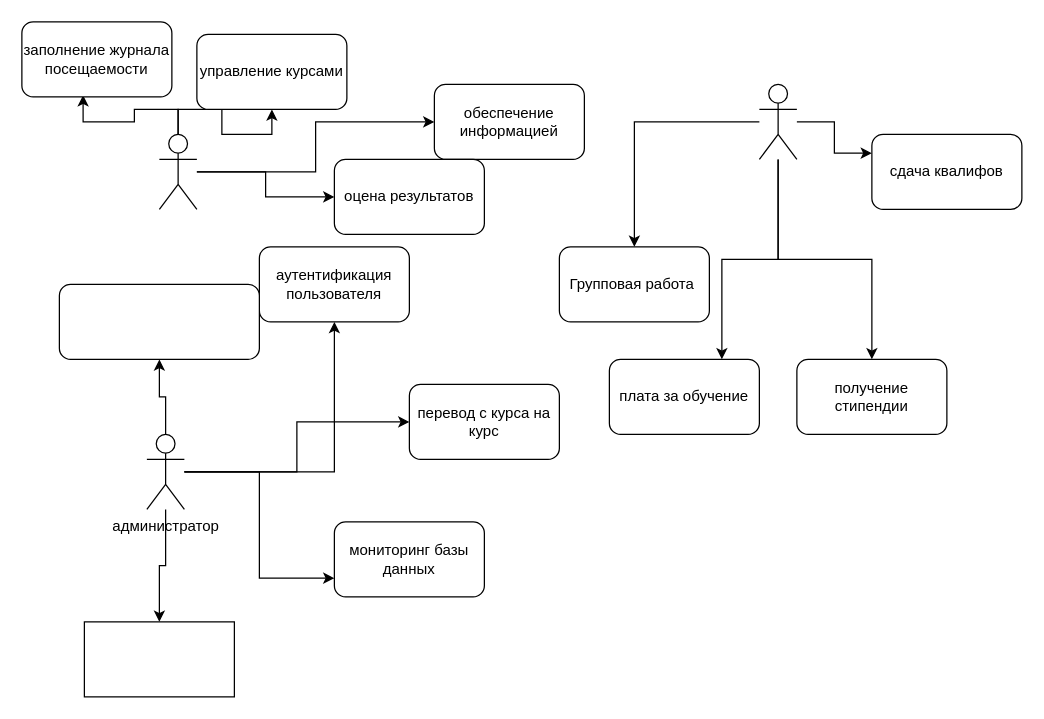
Image size: 1044x719. Some labels were removed from this diagram. Here are the shapes that lost their labels. From the top down, the box of each, then its label:
(758, 83, 797, 159): студент
(158, 133, 197, 209): преподователь
(58, 283, 259, 359): регистрация студента
(83, 621, 234, 697): администрирование системы
